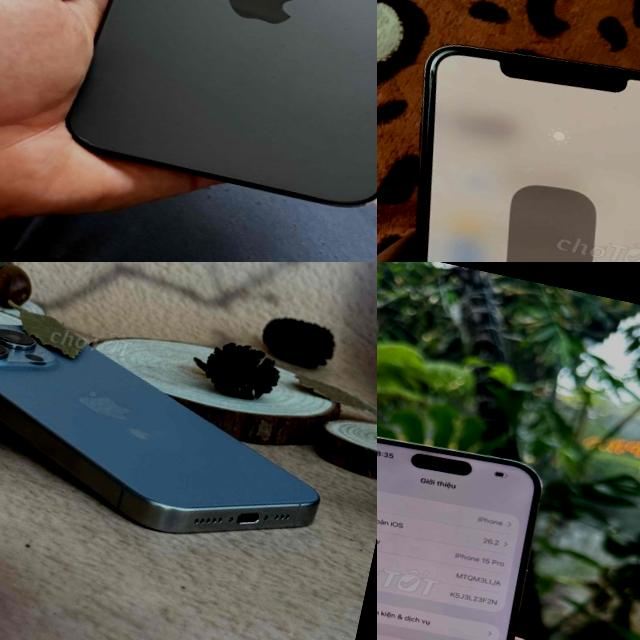gen_14: (56, 0, 377, 223)
gen_15: (0, 281, 349, 583), (377, 422, 574, 640)
gen_x_xs: (377, 19, 640, 262)
